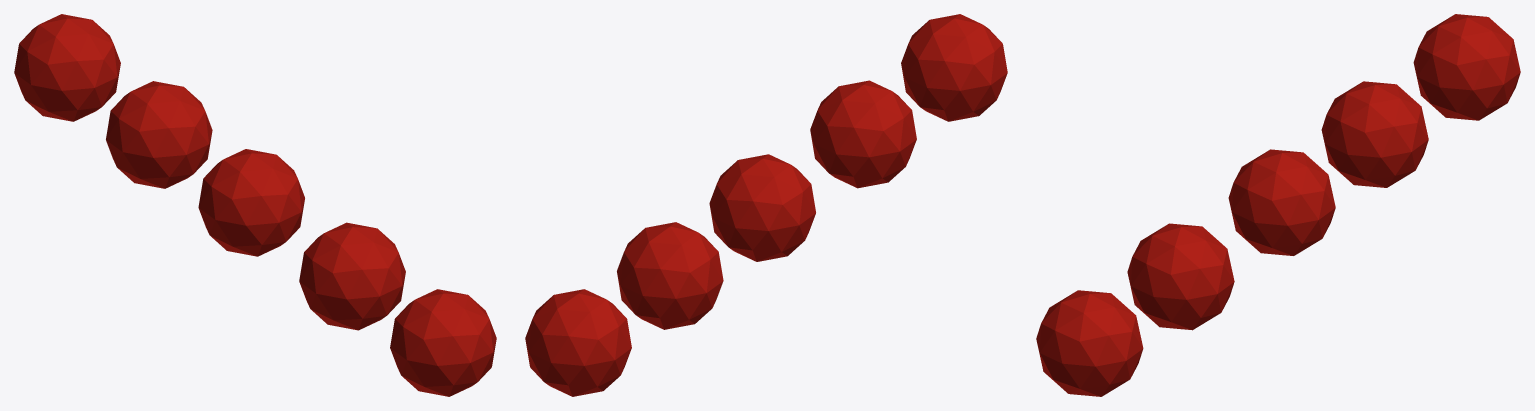
File: LanternTest.fbx
The picture shows the model from 3 angles, left to right: view 1: azimuth 30°, elevation 25°; view 2: azimuth 150°, elevation 25°; view 3: azimuth 330°, elevation 25°; orthographic projection.
Parts seen in each view (by area): view 1: Icosphere, Icosphere.002, Icosphere.003, Icosphere.004, Icosphere.001; view 2: Icosphere, Icosphere.002, Icosphere.003, Icosphere.004, Icosphere.001; view 3: Icosphere.003, Icosphere.004, Icosphere, Icosphere.001, Icosphere.002.
Part boxes in pixels (x1=…): Icosphere: x1=106, y1=81, x2=212, y2=188; Icosphere.002: x1=299, y1=222, x2=405, y2=330; Icosphere.003: x1=390, y1=289, x2=496, y2=396; Icosphere.004: x1=14, y1=14, x2=120, y2=121; Icosphere.001: x1=198, y1=149, x2=304, y2=256; Icosphere: x1=617, y1=222, x2=723, y2=329; Icosphere.002: x1=810, y1=80, x2=916, y2=188; Icosphere.003: x1=901, y1=14, x2=1007, y2=121; Icosphere.004: x1=525, y1=289, x2=631, y2=396; Icosphere.001: x1=709, y1=154, x2=815, y2=261; Icosphere.003: x1=1036, y1=290, x2=1143, y2=396; Icosphere.004: x1=1413, y1=14, x2=1520, y2=120; Icosphere: x1=1321, y1=81, x2=1428, y2=187; Icosphere.001: x1=1228, y1=149, x2=1335, y2=255; Icosphere.002: x1=1127, y1=223, x2=1234, y2=330.
Bounding box in the file's own units: 79.49 × 83.58 × 659.
